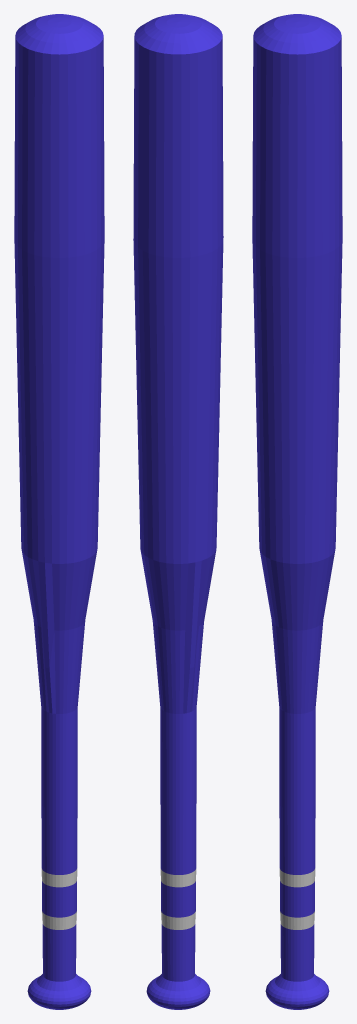
The model's file is Baseball Anim Color2.fbx.
3 views of the same model, side by side, from view 1: azimuth 90°, elevation 25°; view 2: azimuth 150°, elevation 25°; view 3: azimuth 270°, elevation 25° (orthographic).
Visible parts, largest first — view 1: Sphere; view 2: Sphere; view 3: Sphere.
Boxes of the visible parts, left/top/right/bottom form: Sphere: left=14, top=14, right=104, bottom=1009; Sphere: left=133, top=14, right=223, bottom=1009; Sphere: left=252, top=14, right=342, bottom=1009.
Size of the model in its own units: 0.1759 by 2.11 by 0.1759.
